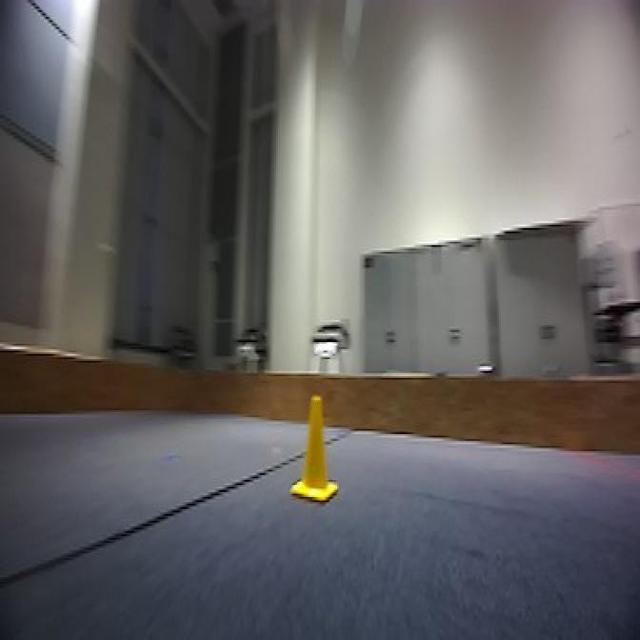frc_cone: (292, 393, 341, 507)
